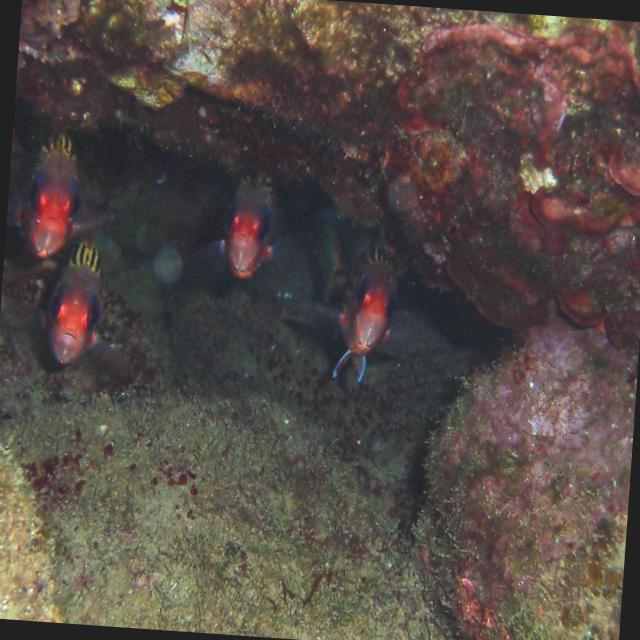Asker Baligi: (316, 226, 416, 399), (212, 160, 291, 298)
